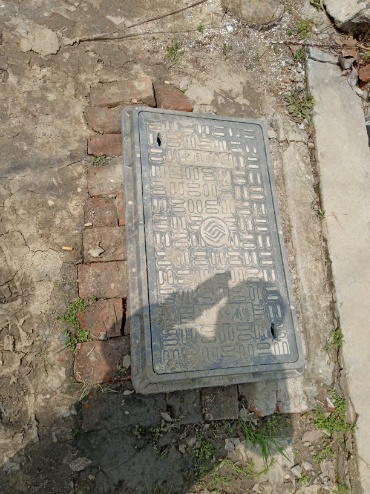well: (133, 107, 304, 381)
